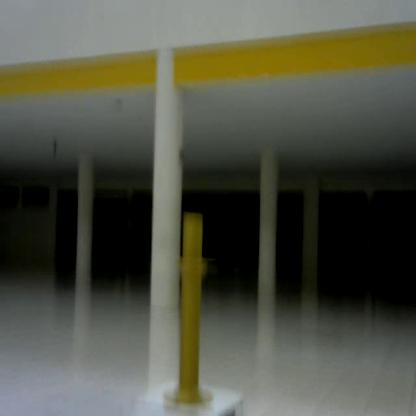pole: (163, 206, 223, 412)
